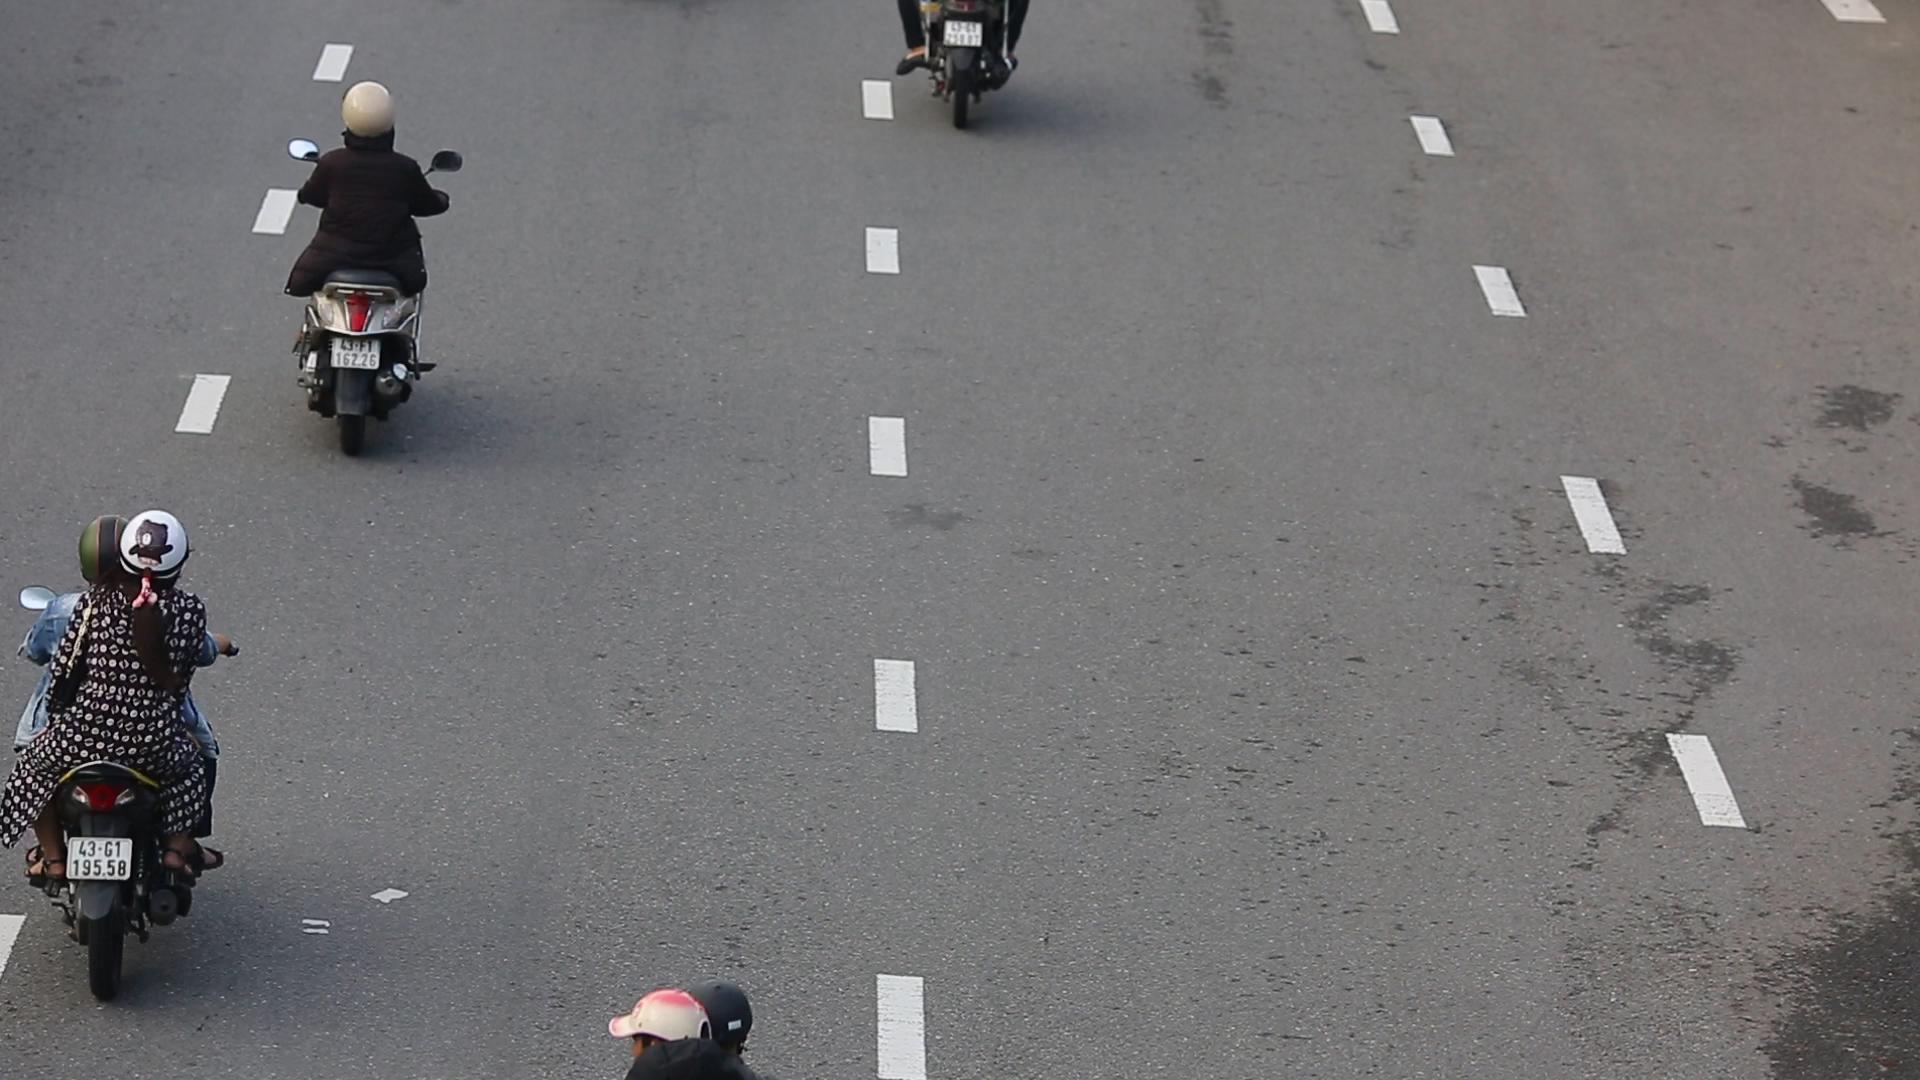motobike: (18, 512, 229, 990), (282, 79, 460, 458)
